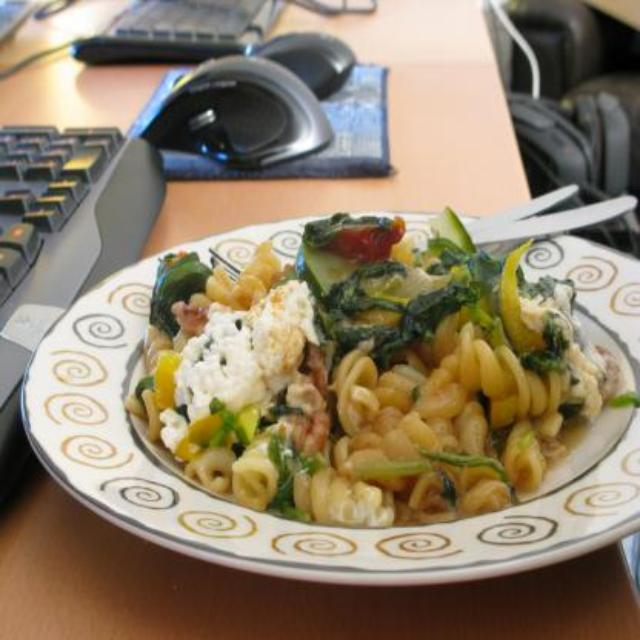Computer-Keyboard: (0, 120, 142, 308), (75, 6, 282, 54)
Computer-Mouse: (138, 48, 340, 178)
